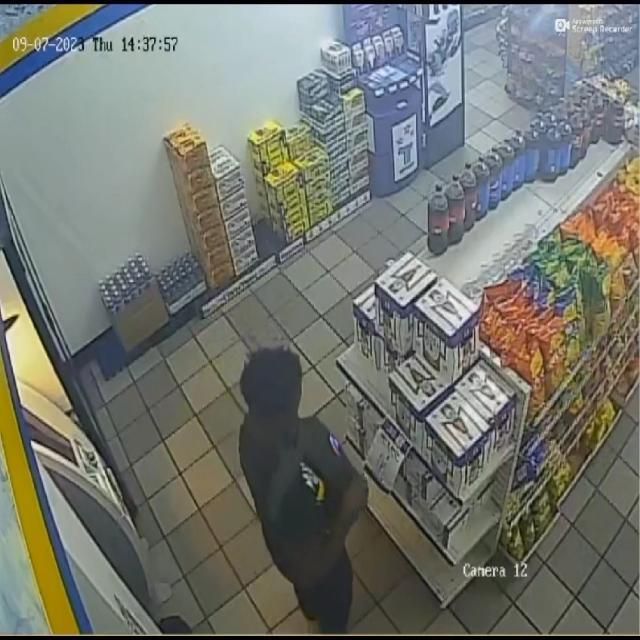Normal: (225, 339, 396, 627)
